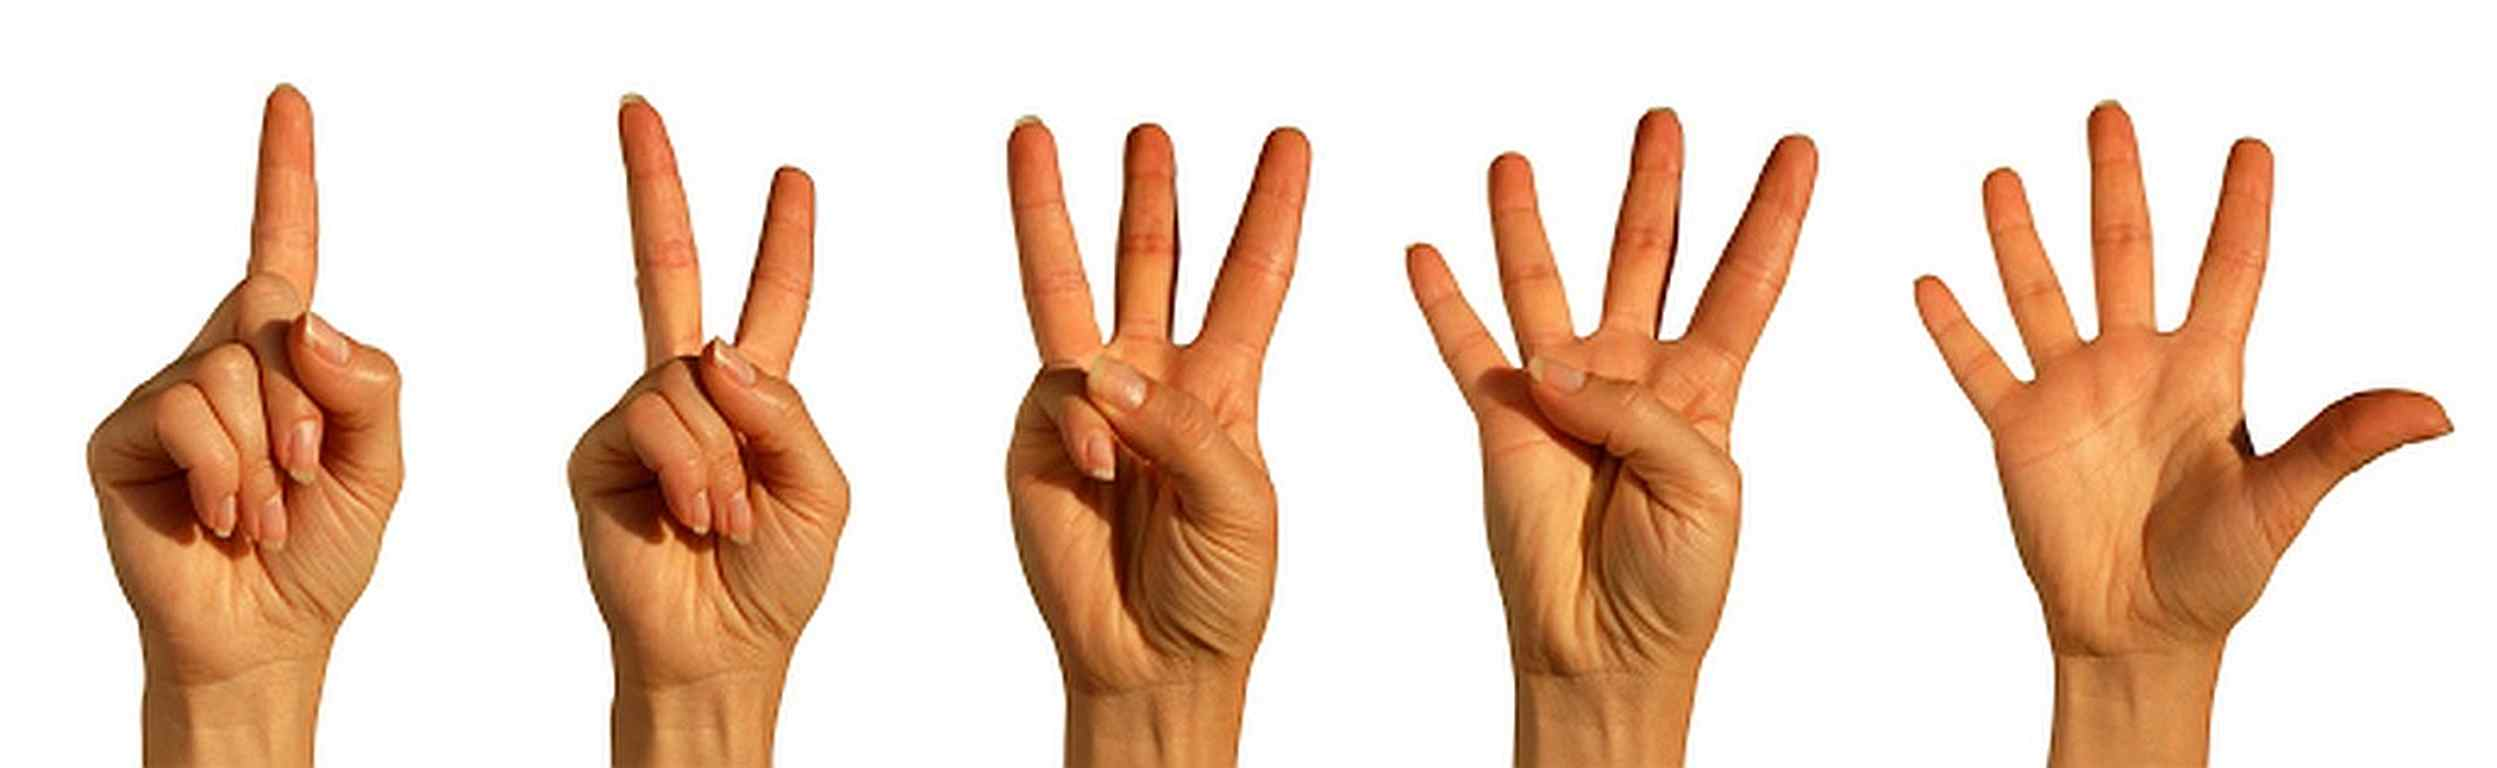finger: (1678, 132, 1865, 351), (147, 346, 311, 562), (182, 261, 334, 481), (1191, 135, 1339, 351), (605, 88, 710, 363), (994, 108, 1105, 346), (1596, 88, 1701, 336), (1478, 140, 1600, 349), (2167, 134, 2288, 336), (100, 387, 255, 535), (647, 351, 766, 542), (1978, 167, 2091, 354), (578, 394, 723, 534), (233, 76, 333, 279), (1393, 237, 1511, 408), (1909, 276, 2029, 435), (2080, 89, 2161, 323), (1104, 108, 1177, 357), (733, 163, 825, 351), (1019, 363, 1147, 496)
